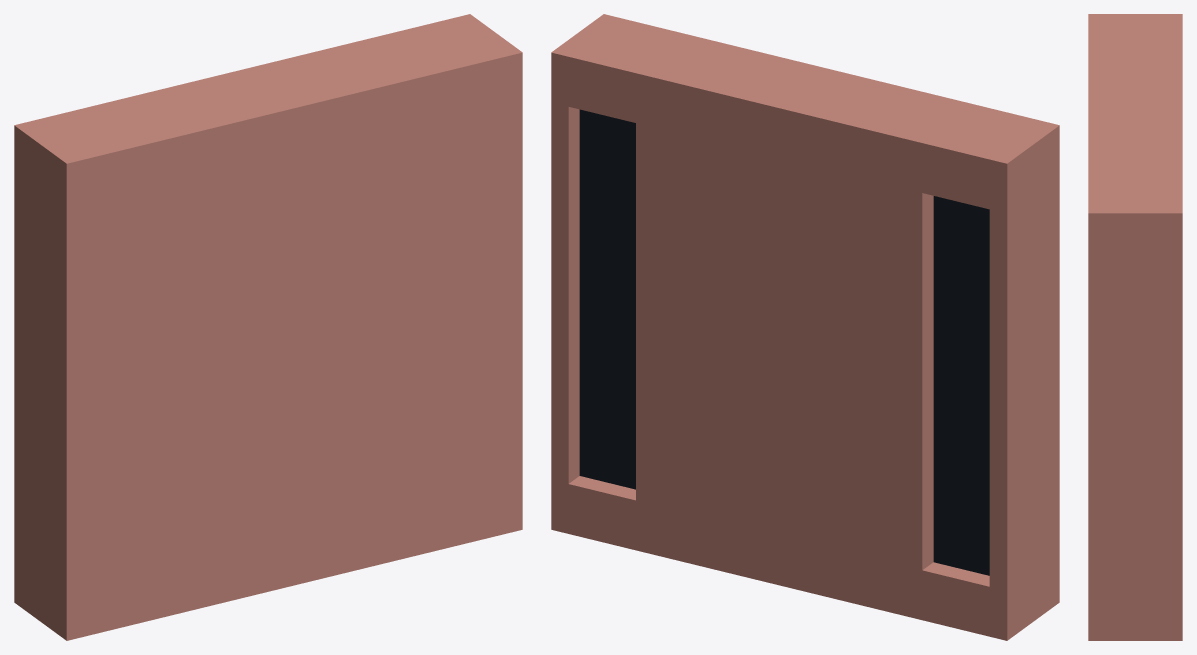
The model's file is BasicWall1x5Var02.fbx.
3 views of the same model, side by side, from view 1: azimuth 30°, elevation 25°; view 2: azimuth 150°, elevation 25°; view 3: azimuth 270°, elevation 25° (orthographic). The views are drawn at different scales.
Parts seen in each view (by area): view 1: BasicWall1x5Var02.003; view 2: BasicWall1x5Var02.003; view 3: BasicWall1x5Var02.003.
Part boxes in pixels (box(x1,y1,x2,y2)): BasicWall1x5Var02.003: box(14, 14, 522, 640); BasicWall1x5Var02.003: box(551, 14, 1059, 640); BasicWall1x5Var02.003: box(1088, 14, 1182, 640).
Bounding box in the file's own units: 500 × 500 × 100.
